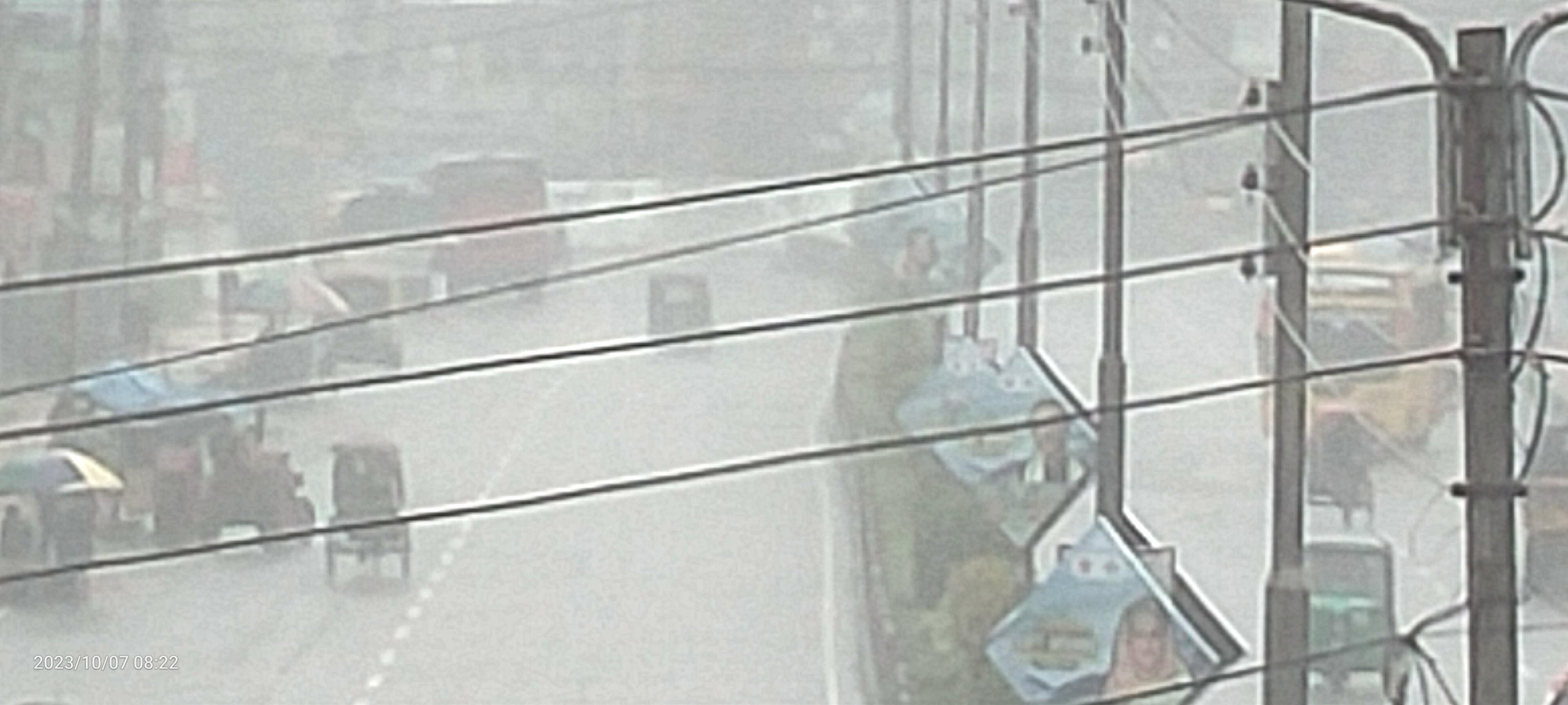Bus: (1226, 218, 1508, 483), (403, 125, 563, 323)
Car: (1290, 387, 1417, 545), (307, 436, 428, 589)
